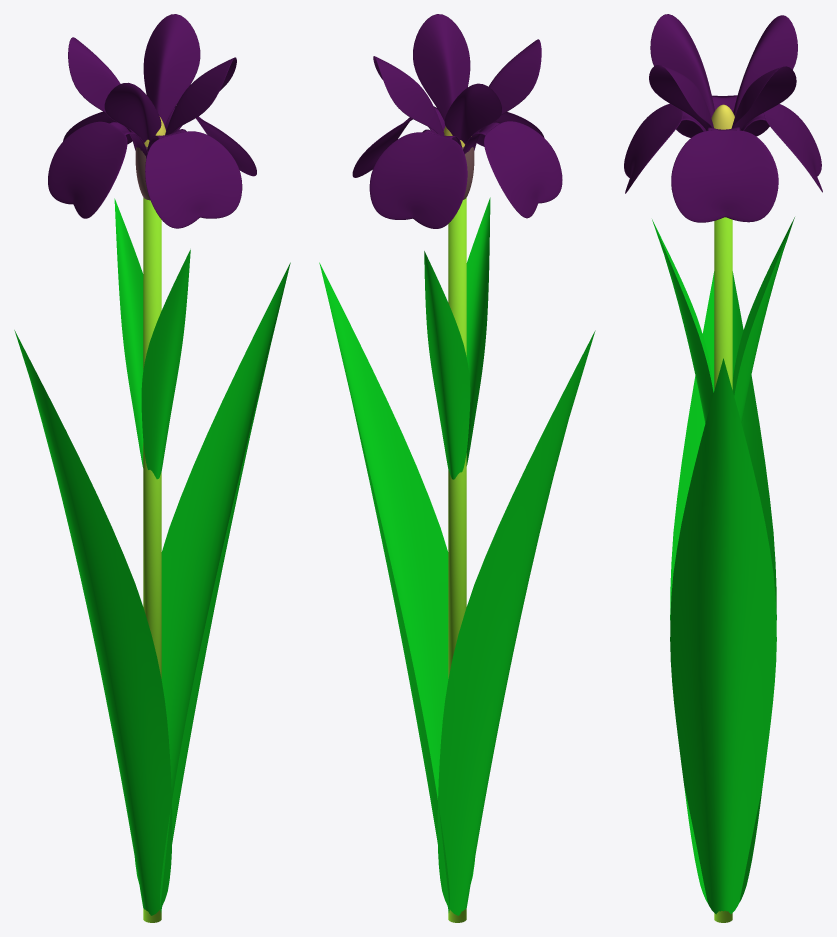
The model's file is ayame.glb.
3 renders of one model, left to right at view 1: azimuth 30°, elevation 25°; view 2: azimuth 150°, elevation 25°; view 3: azimuth 270°, elevation 25°, orthographic.
Parts seen in each view (by area): view 1: 平面.012, 平面.014, 平面.003, 円柱, 平面.016, 平面.001, 平面.011, 平面.015, 平面.010, 平面.009, 平面.013, 平面.005 (+1 smaller); view 2: 平面.012, 平面.014, 平面.006, 平面.015, 円柱, 平面.001, 平面.013, 平面.016, 平面.009, 平面.011, 平面.010, 平面.005; view 3: 平面.014, 平面.005, 平面.012, 円柱, 平面.010, 平面.015, 平面.009, 平面.016, 平面.003, 平面.011, 平面.006, 平面.013 (+2 smaller).
Boxes of the visible parts, bbox=[...] form: 平面.012: bbox=[14, 330, 172, 915]; 平面.014: bbox=[134, 262, 290, 912]; 平面.003: bbox=[145, 131, 242, 228]; 円柱: bbox=[143, 197, 161, 922]; 平面.016: bbox=[141, 249, 190, 479]; 平面.001: bbox=[48, 121, 127, 218]; 平面.011: bbox=[143, 14, 200, 125]; 平面.015: bbox=[114, 198, 143, 467]; 平面.010: bbox=[104, 82, 161, 142]; 平面.009: bbox=[68, 37, 135, 133]; 平面.013: bbox=[165, 57, 236, 135]; 平面.005: bbox=[196, 116, 256, 176]; 平面.012: bbox=[437, 330, 595, 915]; 平面.014: bbox=[319, 262, 475, 912]; 平面.006: bbox=[369, 132, 467, 228]; 平面.015: bbox=[424, 251, 470, 479]; 円柱: bbox=[448, 198, 466, 922]; 平面.001: bbox=[484, 121, 562, 218]; 平面.013: bbox=[413, 14, 470, 121]; 平面.016: bbox=[466, 197, 490, 465]; 平面.009: bbox=[444, 83, 501, 144]; 平面.011: bbox=[373, 56, 444, 135]; 平面.010: bbox=[472, 39, 541, 135]; 平面.005: bbox=[352, 117, 412, 177]; 平面.014: bbox=[670, 358, 776, 914]; 平面.005: bbox=[671, 130, 778, 222]; 平面.012: bbox=[670, 271, 776, 902]; 円柱: bbox=[714, 217, 732, 922]; 平面.010: bbox=[650, 14, 714, 117]; 平面.015: bbox=[732, 217, 794, 422]; 平面.009: bbox=[733, 15, 797, 116]; 平面.016: bbox=[652, 219, 714, 422]; 平面.003: bbox=[624, 104, 683, 193]; 平面.011: bbox=[731, 66, 796, 129]; 平面.006: bbox=[763, 104, 822, 192]; 平面.013: bbox=[649, 65, 713, 130].
Size of the model in its own units: 1.25 by 3.75 by 0.7704.
